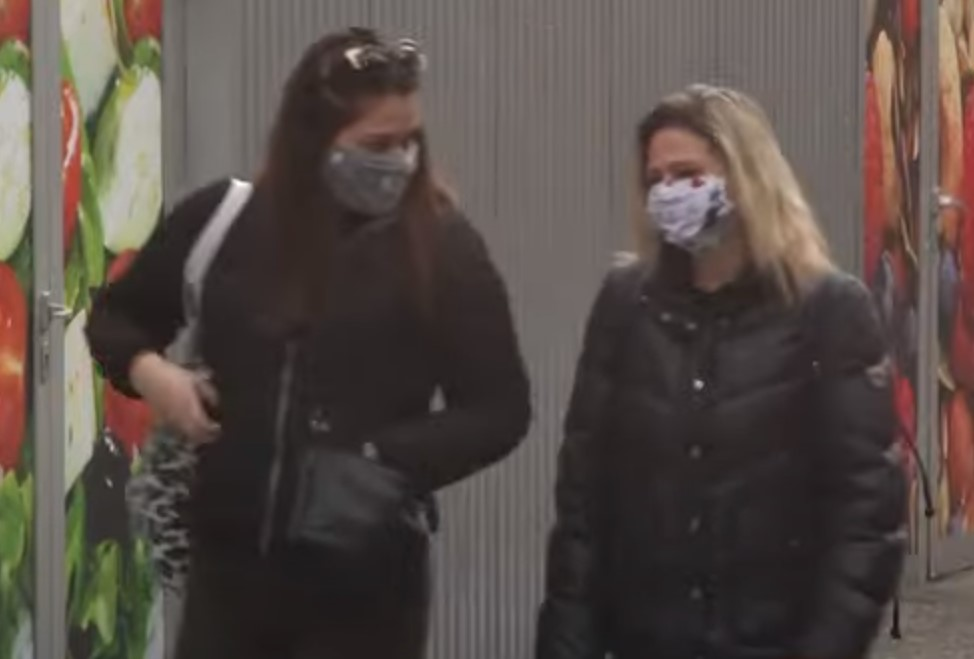face_with_mask: (295, 28, 431, 218), (641, 88, 770, 261)
